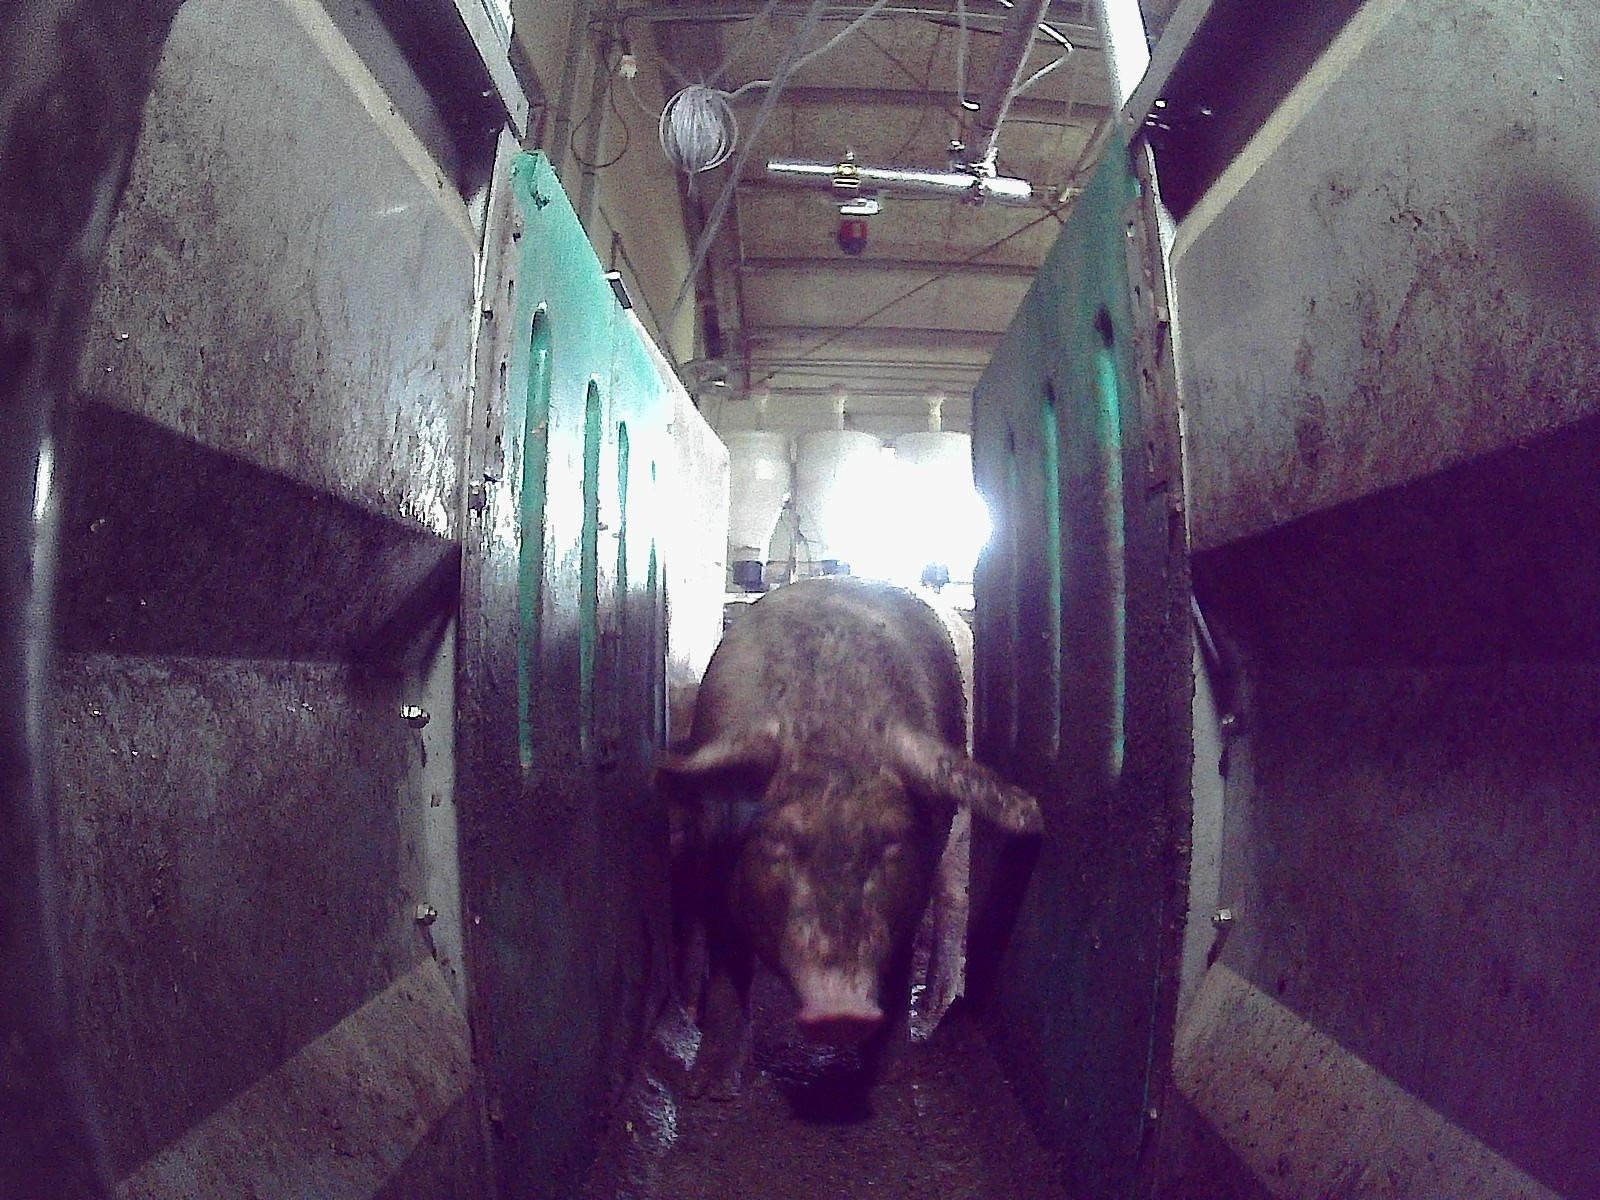Face: (733, 725, 933, 1046)
